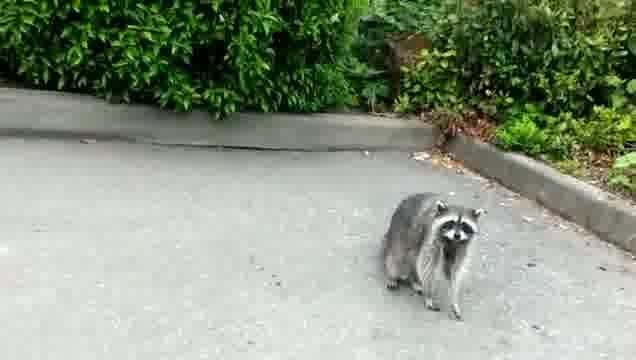raccoon: (382, 190, 485, 320)
